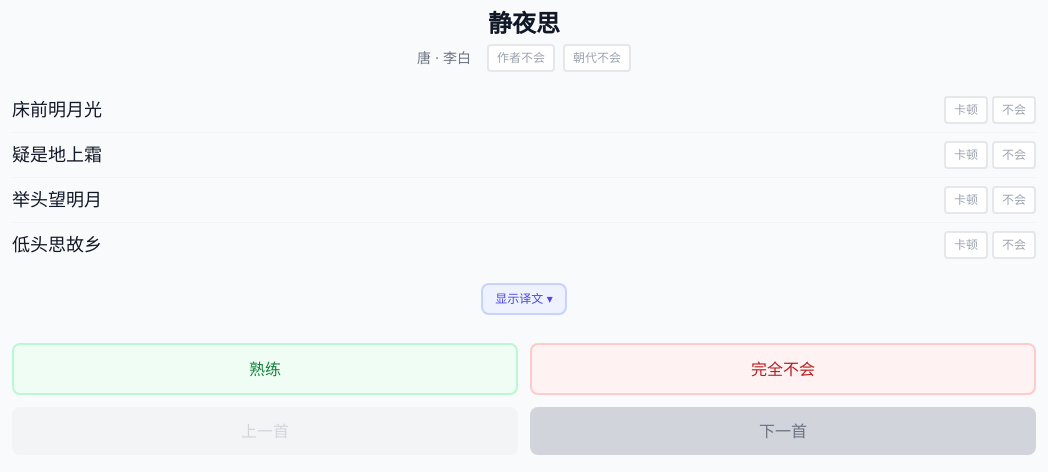
Test: RecitationCard › "下一首" button › is enabled when dynasty is marked wrong
The width and height of the screenshot is (1048, 472).
What coordinates should you click on to do the following:
click the button with test id "btn-dynasty-forgot"
I would click on:
 (597, 58)
Its box is left=563, top=44, right=631, bottom=72.
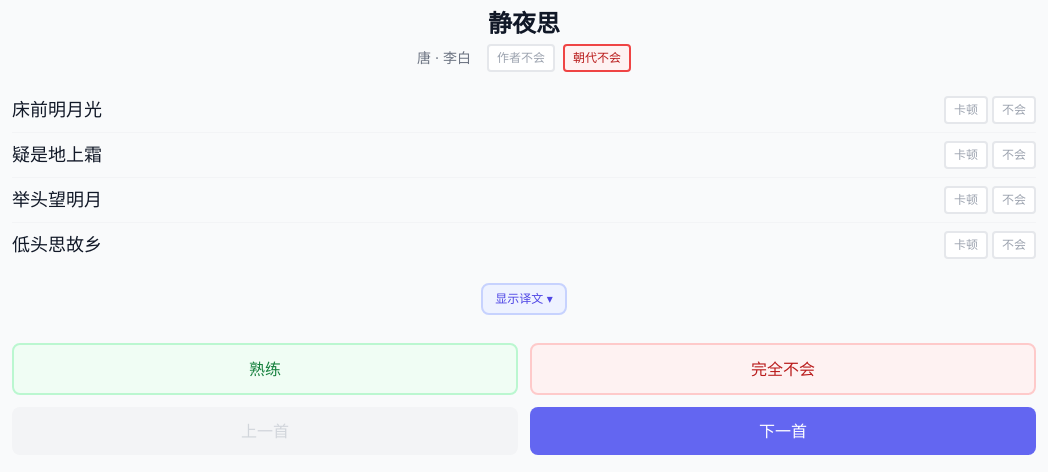
Now the button "下一首" is enabled, box left=530, top=407, right=1036, bottom=455
